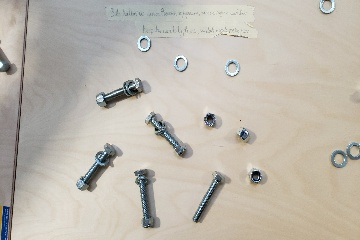Bolt: (190, 171, 226, 222)
FalseAssembly: (76, 145, 114, 191), (132, 169, 157, 228)
FinishedAssembly: (144, 112, 191, 158), (95, 75, 146, 109)
Nut: (247, 167, 265, 186), (203, 112, 218, 128), (236, 126, 250, 142)
Washer: (329, 147, 348, 169), (223, 59, 242, 79), (172, 55, 190, 73), (135, 35, 152, 53)
